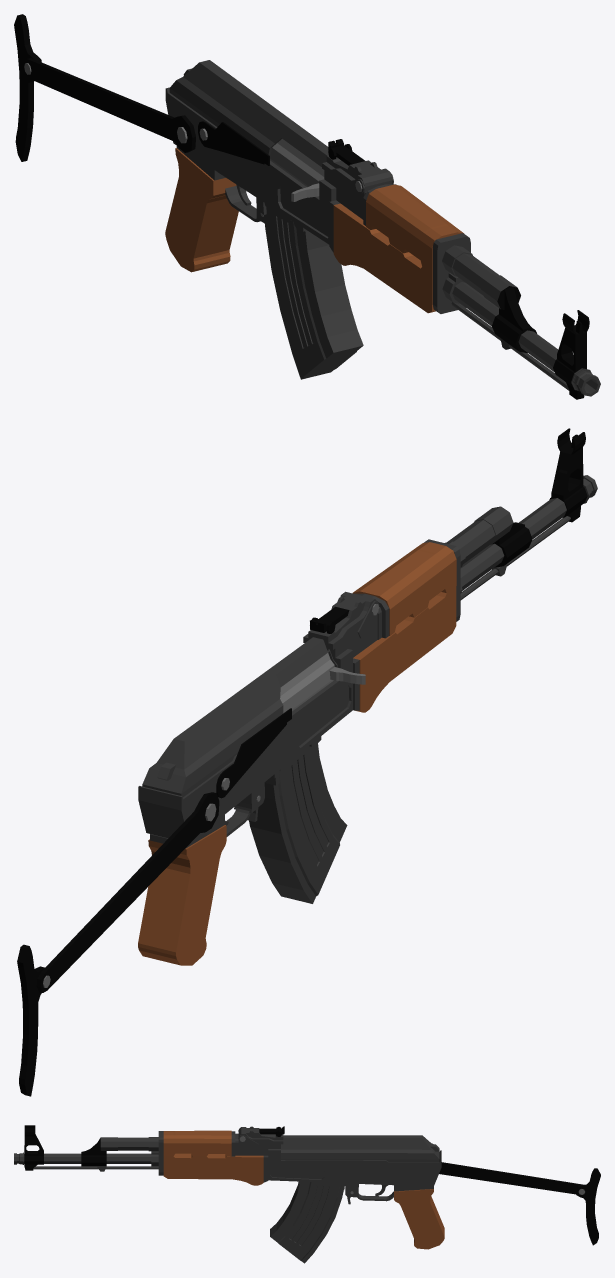
3 views of the same model, one above another, from view 1: azimuth 30°, elevation 25°; view 2: azimuth 150°, elevation 25°; view 3: azimuth 270°, elevation 25° (orthographic). The views are drawn at different scales.
Parts seen in each view (by area): view 1: Body, Magazine, Stock, Butt Stock, Bolt, Selector, Sight; view 2: Body, Magazine, Stock, Butt Stock, Bolt, Selector; view 3: Body, Magazine, Stock, Butt Stock.
Part boxes in pixels (x1,y1,x2,y2): Body: (165,60,600,399); Magazine: (264,207,363,379); Stock: (23,58,195,152); Butt Stock: (14,14,41,161); Bolt: (270,139,324,201); Selector: (198,121,269,165); Sight: (328,139,364,165); Body: (138,428,597,965); Magazine: (249,743,347,903); Stock: (36,792,219,992); Butt Stock: (17,944,50,1096); Bolt: (280,653,365,713); Selector: (216,708,291,798); Body: (14,1125,444,1249); Magazine: (270,1182,343,1263); Stock: (439,1162,582,1194); Butt Stock: (576,1168,600,1245).
Bounding box in the file's own units: 5.82 × 84.94 × 21.16.
